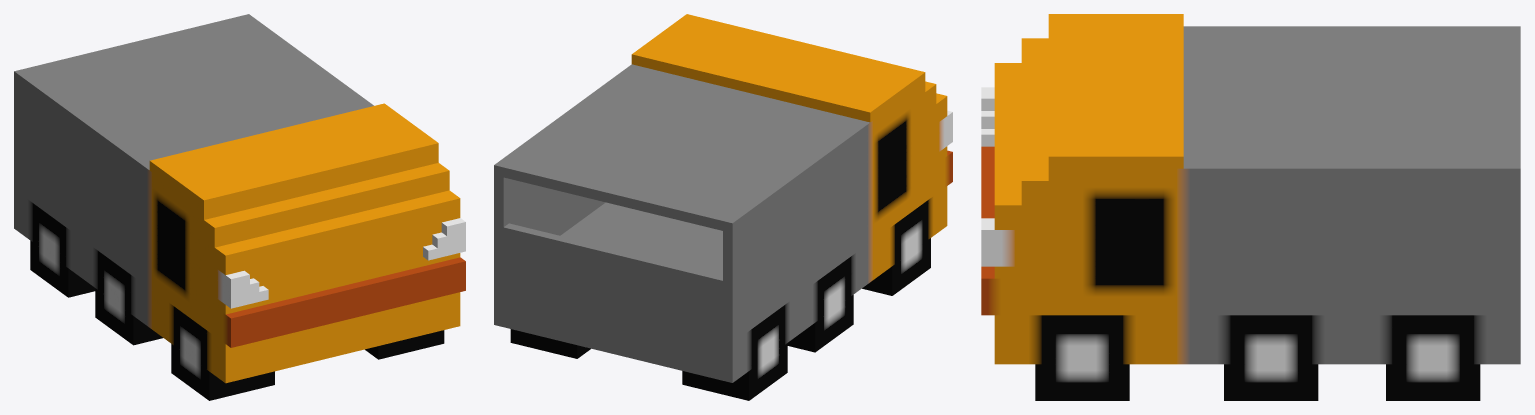
File: Car_50.fbx
The picture shows the model from 3 angles, left to right: view 1: azimuth 30°, elevation 25°; view 2: azimuth 150°, elevation 25°; view 3: azimuth 270°, elevation 25°; orthographic projection. The views are drawn at different scales.
Parts seen in each view (by area): view 1: Car_50; view 2: Car_50; view 3: Car_50.
Boxes of the visible parts, x1,y1,x2,y2 form: Car_50: (14, 14, 465, 400); Car_50: (494, 14, 952, 400); Car_50: (981, 14, 1520, 400).
Bounding box in the file's own units: 25 × 20 × 40.
Materials: 1 (1 with a texture image).
